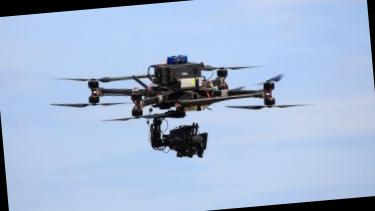drone: (41, 48, 300, 134)
